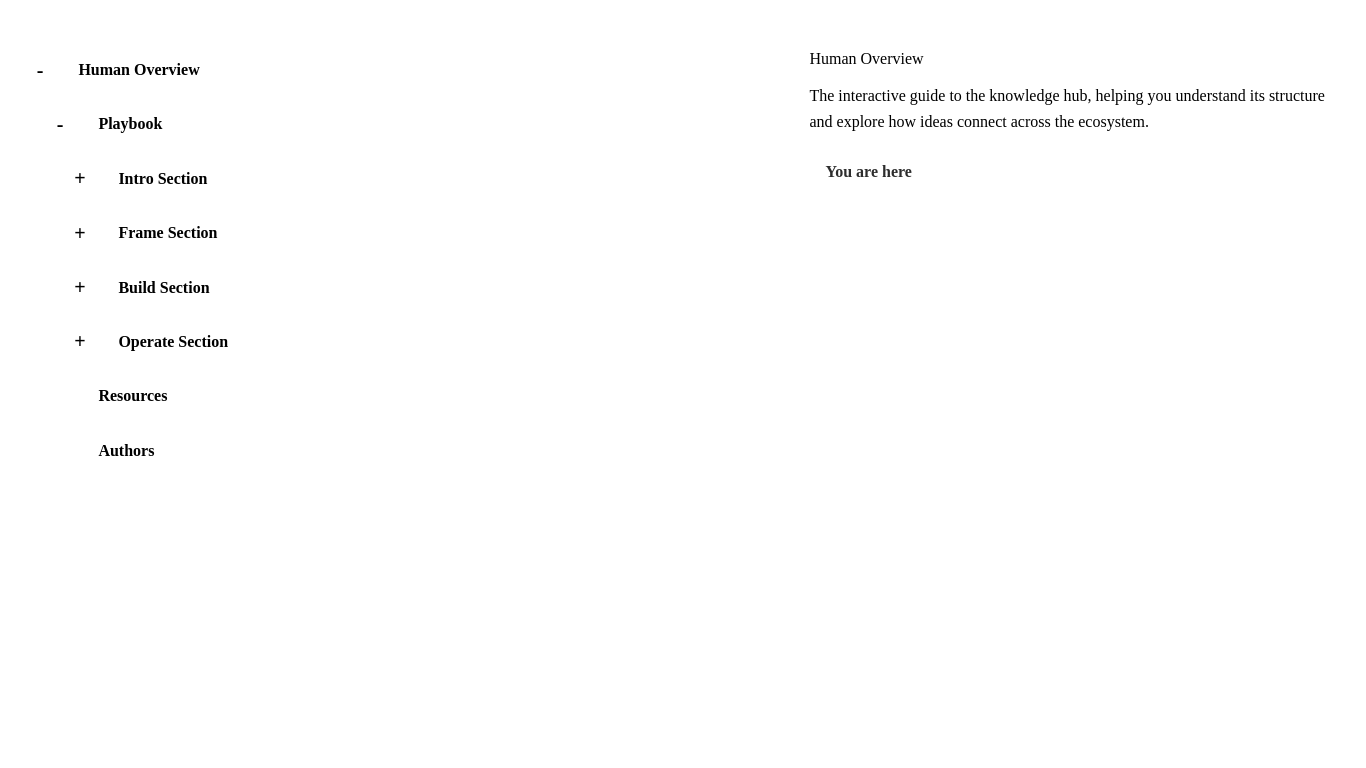
Test: PlaybookTree › expands and collapses tree branches
Expected: the button "Ideation" is not shown
Click the button named "Expand Frame Section" at (80, 233), box 64,211 -> 96,255
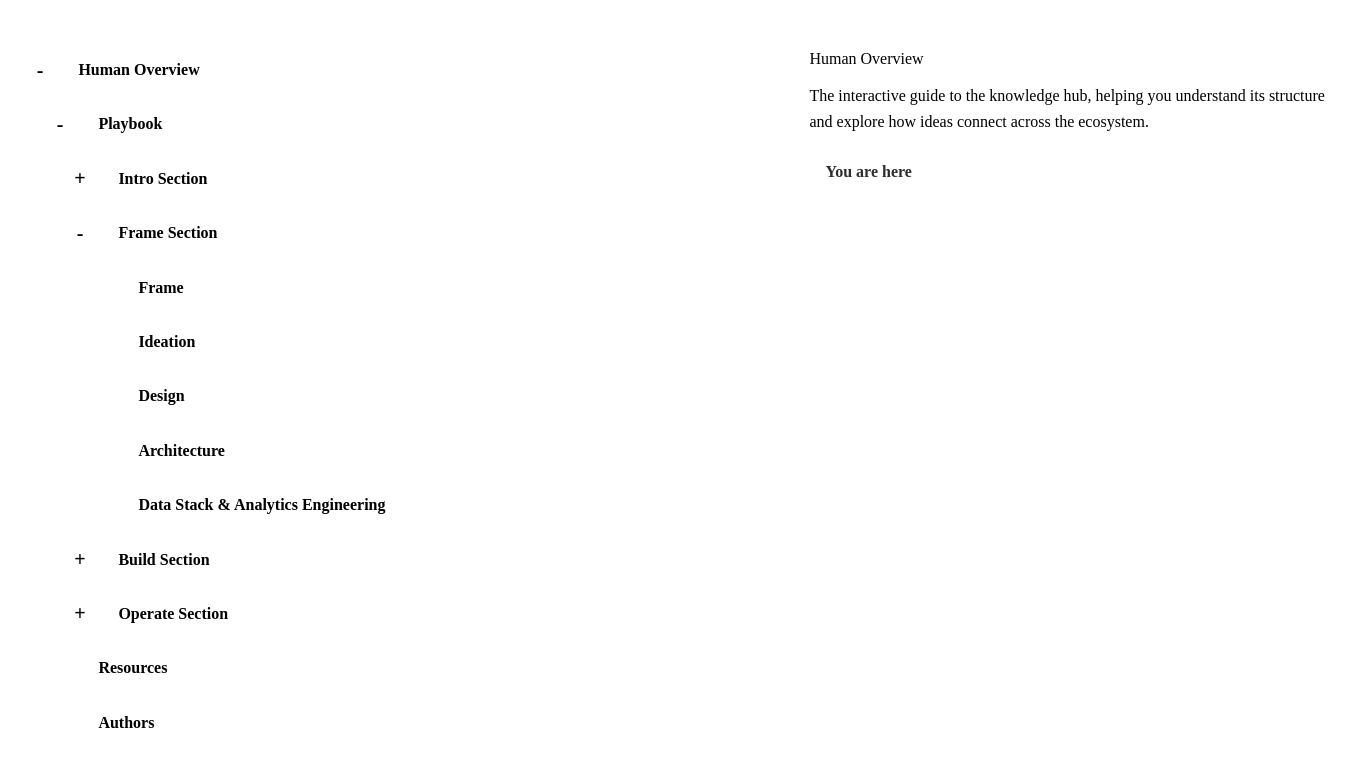
Result: the button "Ideation" is shown at 125,320 -> 759,364
Click the button named "Collapse Frame Section" at (80, 233), box 64,211 -> 96,255
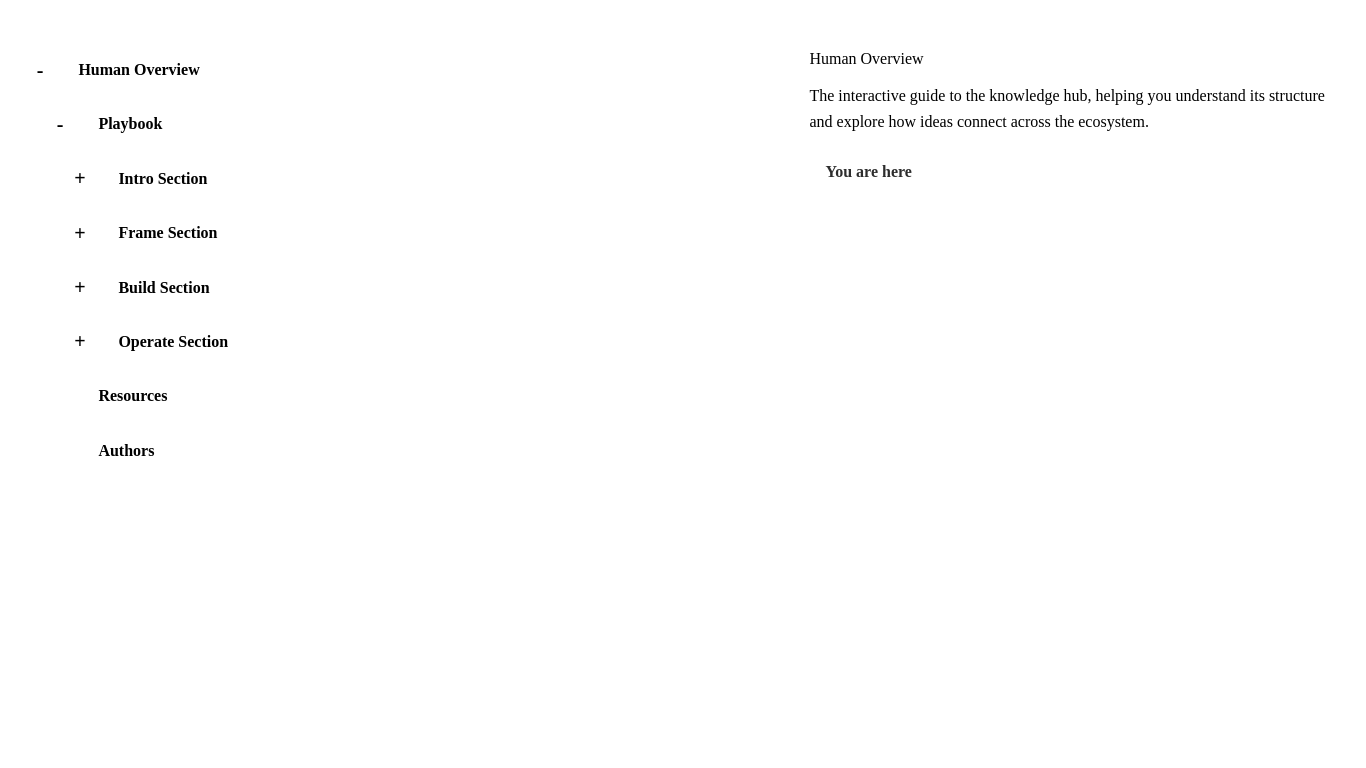
Result: the button "Ideation" is gone
